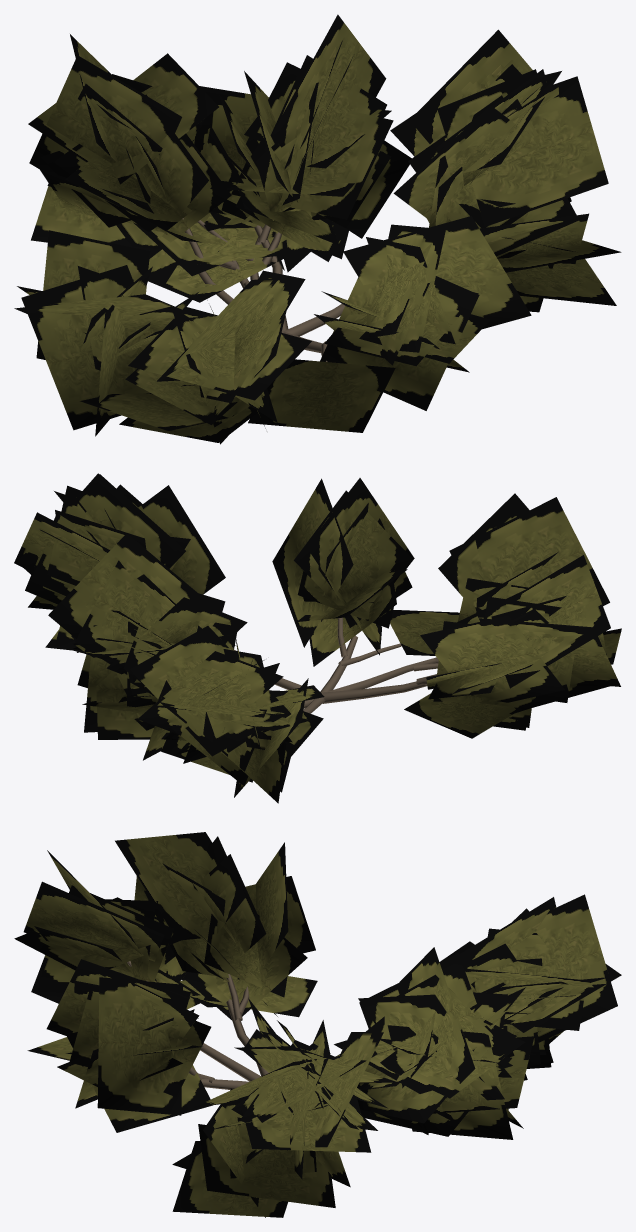
The model's file is juniper_2_burnt1.glb.
3 views of the same model, one above another, from view 1: azimuth 30°, elevation 25°; view 2: azimuth 150°, elevation 25°; view 3: azimuth 270°, elevation 25° (orthographic). The views are drawn at different scales.
Visible parts, largest first — view 1: juniper_2_burnt1; view 2: juniper_2_burnt1; view 3: juniper_2_burnt1.
Boxes of the visible parts, box(x1,y1,x2,y2) form: juniper_2_burnt1: box(14, 14, 621, 444); juniper_2_burnt1: box(14, 473, 621, 803); juniper_2_burnt1: box(14, 832, 621, 1217).
Size of the model in its own units: 3.63 by 1.25 by 3.25.
Materials: 2 (1 with a texture image).
